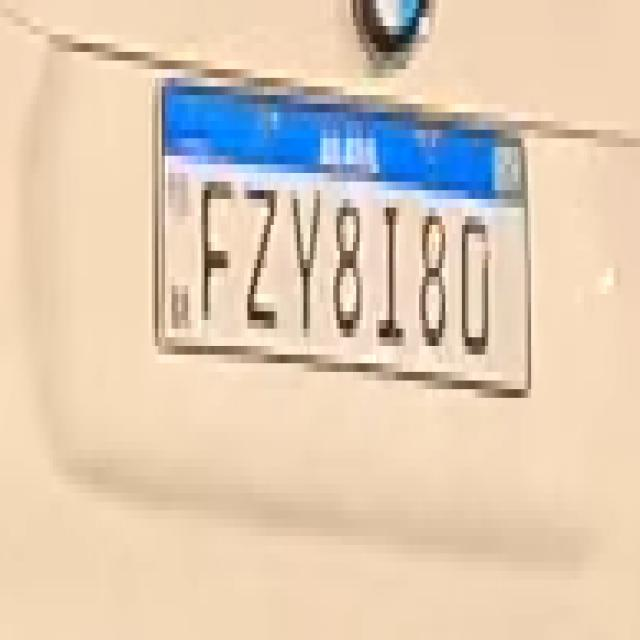Placa_mercosul_carro: (149, 64, 532, 401)
